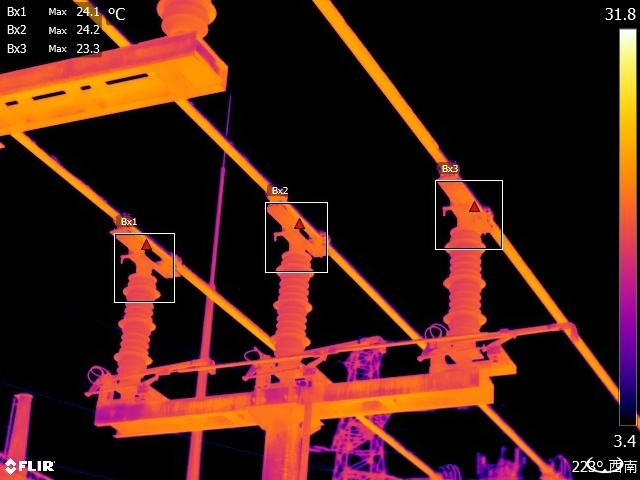post insulator: (269, 229, 318, 366), (107, 264, 161, 384), (435, 233, 489, 343)
